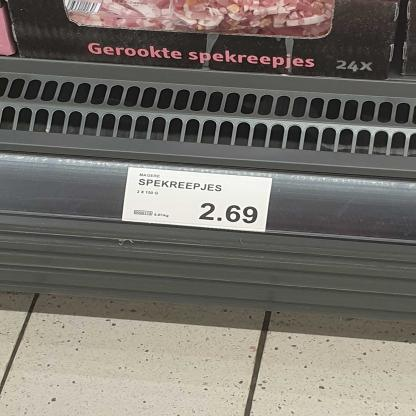prtg: (122, 168, 274, 234)
